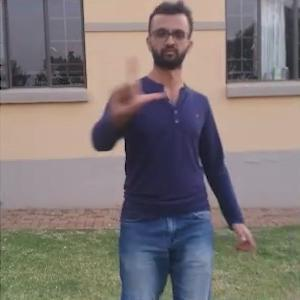land_hand: (103, 49, 167, 114)
